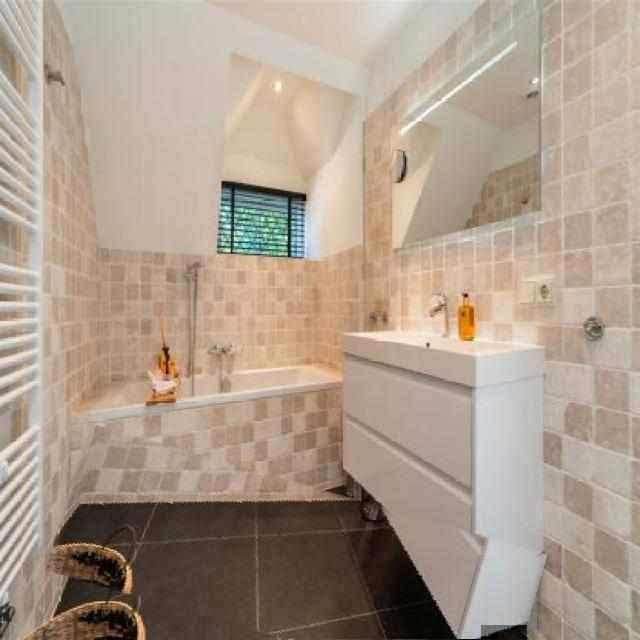floor: (52, 500, 461, 640), (482, 625, 527, 640)
